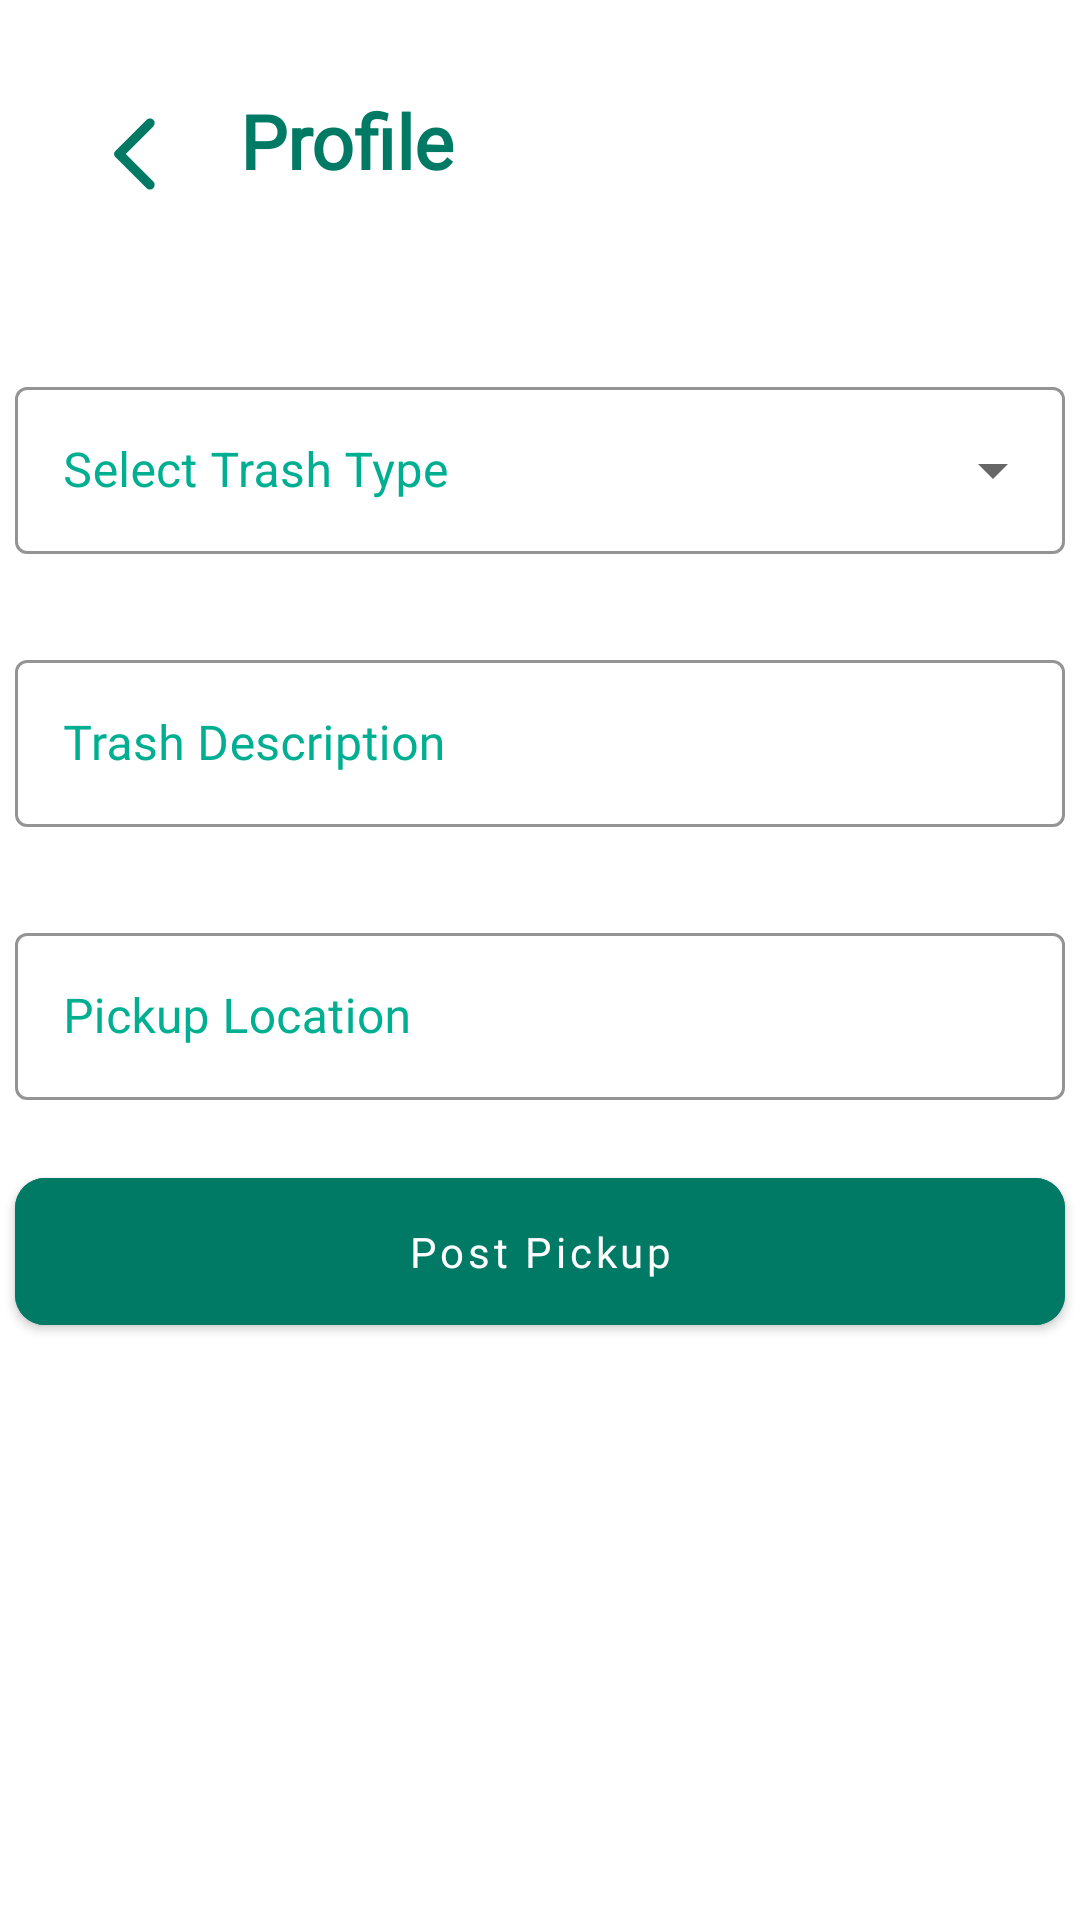

Screen size 1080w x 1920h. Icon name, then its box in pixels as box(x1, y1, x2, y2):
back activity: box(114, 118, 155, 190)
